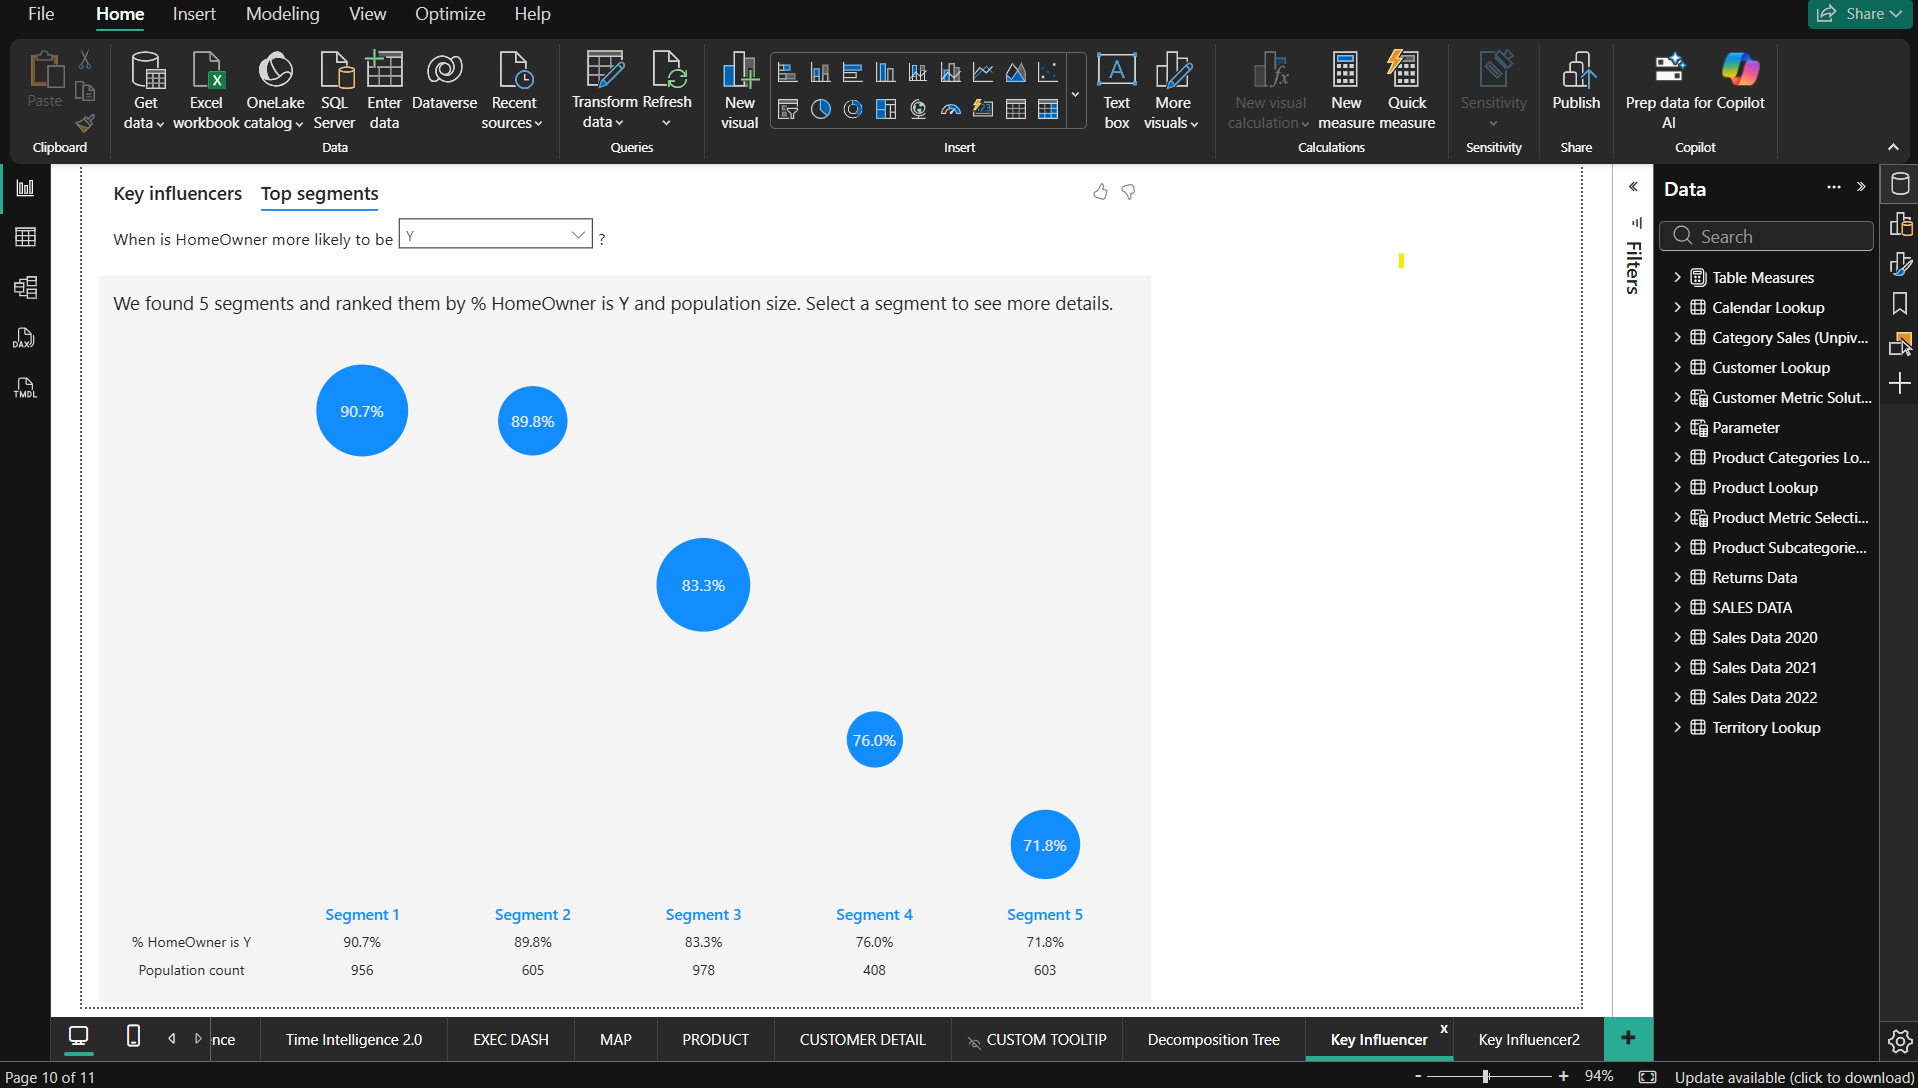

This screenshot's page, from the dashboard's own definition file:
{"tool":"powerbi","page":{"name":"Key Influencer","canvas":[1280,720],"ordinal":9},"visuals":[{"type":"keyDriversVisual","fields":{"ExplainBy":["Customer Lookup.AnnualIncome","Customer Lookup.EducationLevel","Customer Lookup.Parent","Customer Lookup.MaritalStatus","Customer Lookup.Occupation"],"Target":["Customer Lookup.HomeOwner"]},"box":[9.6,0,908.5,720.3],"z":0}]}

Visuals, with their boxes on the page's 1280x720 design canvas (x1, y1, x2, y2). These are canvas units, not pixel positions in the 1918x1088 screenshot, which may show the page scaled, cropped or inside an application window:
keyDriversVisual - Customer Lookup.AnnualIncome x Customer Lookup.EducationLevel: x1=10 y1=0 x2=918 y2=720
